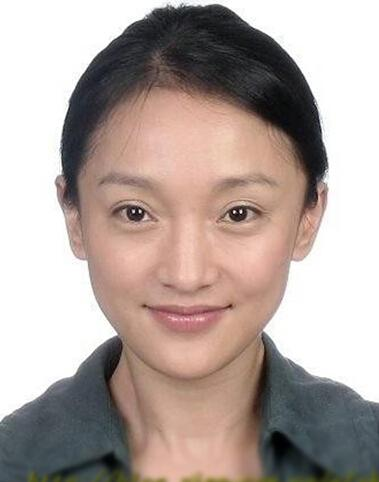unmask: (81, 123, 298, 369)
